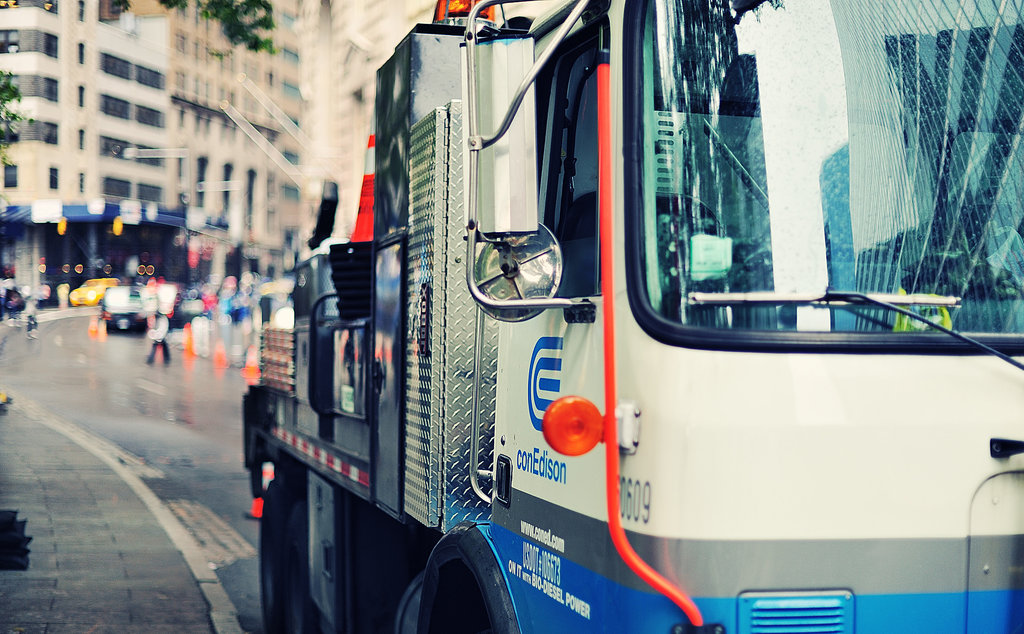Car: (97, 281, 150, 334), (64, 279, 116, 309)
